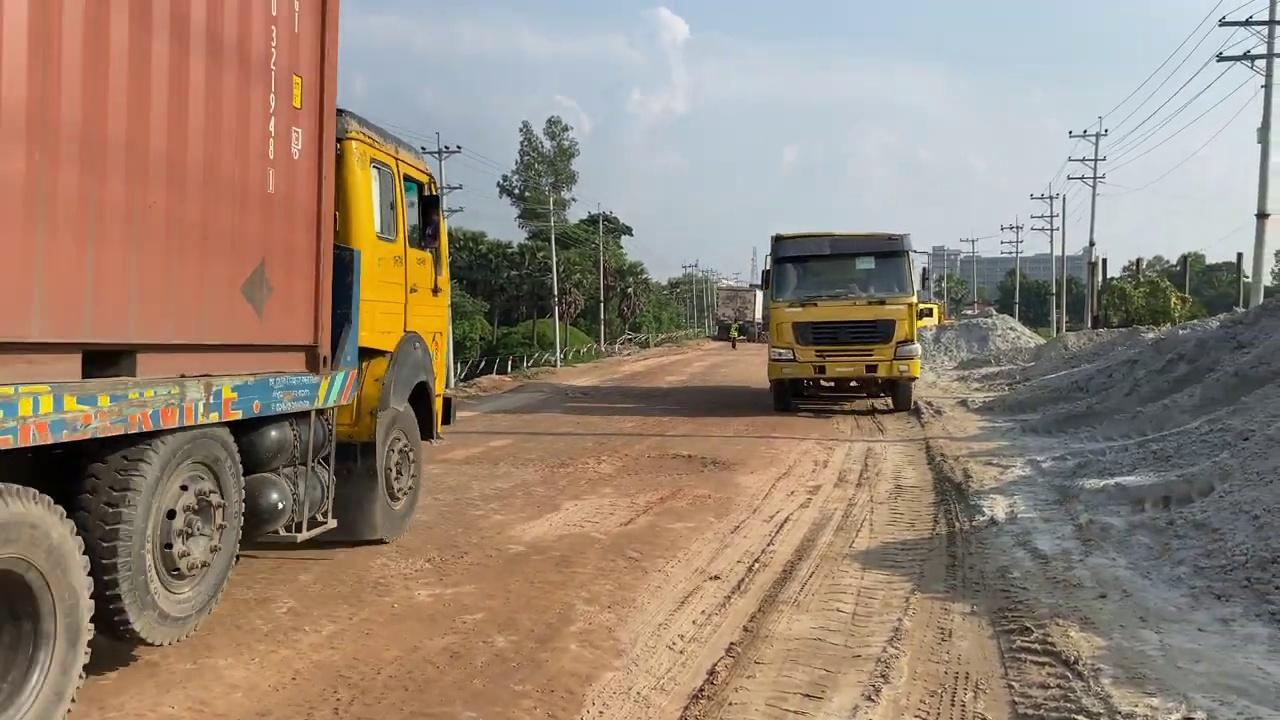Garbage: (922, 303, 1278, 717)
Pole: (1214, 0, 1279, 307), (1249, 1, 1279, 306), (547, 190, 561, 368), (596, 208, 606, 352)
Rickshaw: (64, 333, 1025, 719)
Tree: (0, 2, 459, 720), (760, 230, 944, 412), (712, 282, 759, 342)
